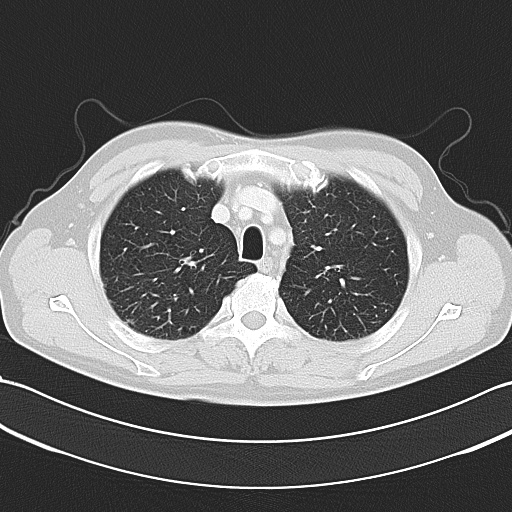non-cancer: (306, 239, 370, 312), (174, 250, 208, 289)
